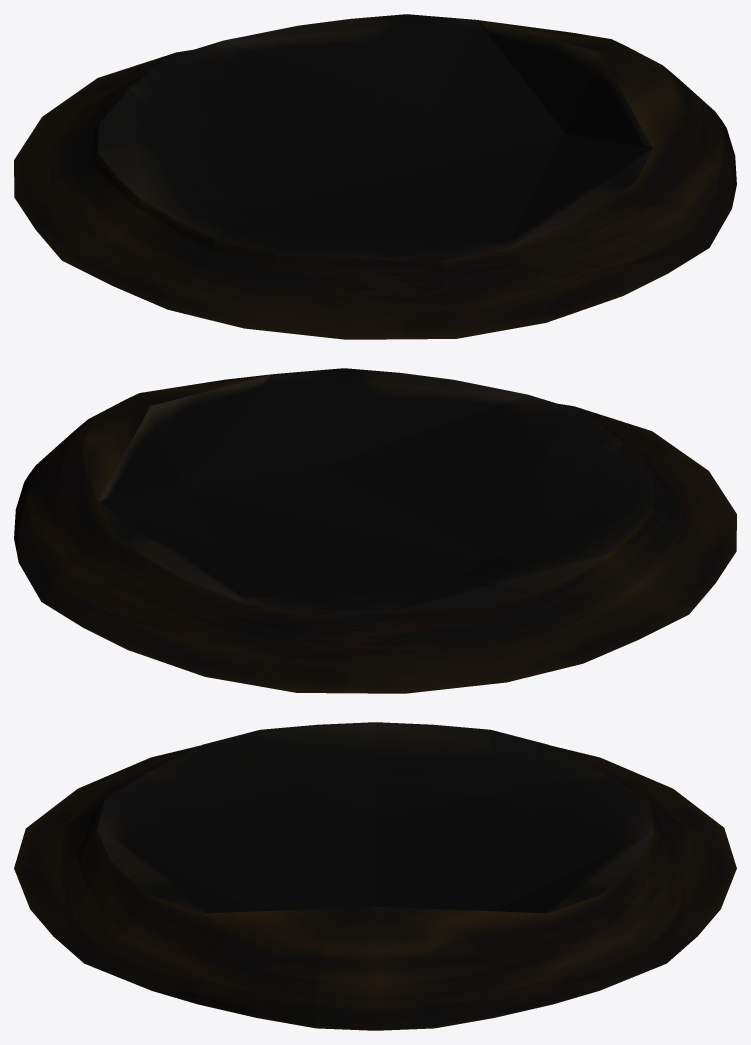
The model's file is guardiancup.obj.
3 views of the same model, one above another, from view 1: azimuth 30°, elevation 25°; view 2: azimuth 150°, elevation 25°; view 3: azimuth 270°, elevation 25° (orthographic). The views are drawn at different scales.
Visible parts, largest first — view 1: Cube; view 2: Cube; view 3: Cube.
Part boxes in pixels (left/top/right/bottom): Cube: left=14, top=14, right=736, bottom=339; Cube: left=14, top=368, right=736, bottom=693; Cube: left=14, top=722, right=736, bottom=1030.
Size of the model in its own units: 170 by 22.55 by 171.
